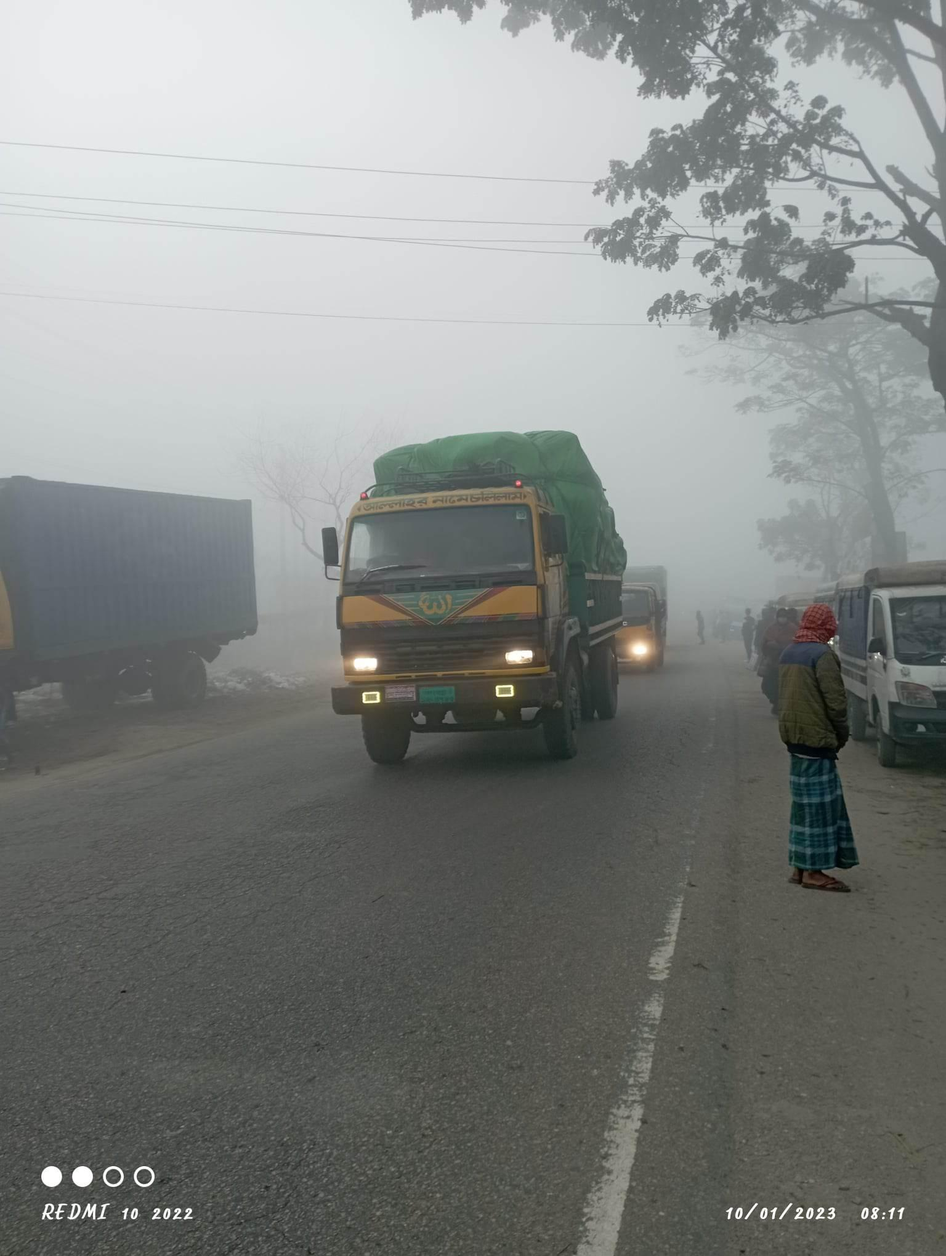Car: (812, 544, 940, 785)
Truck: (311, 409, 625, 810), (7, 451, 289, 733), (615, 549, 694, 699)
